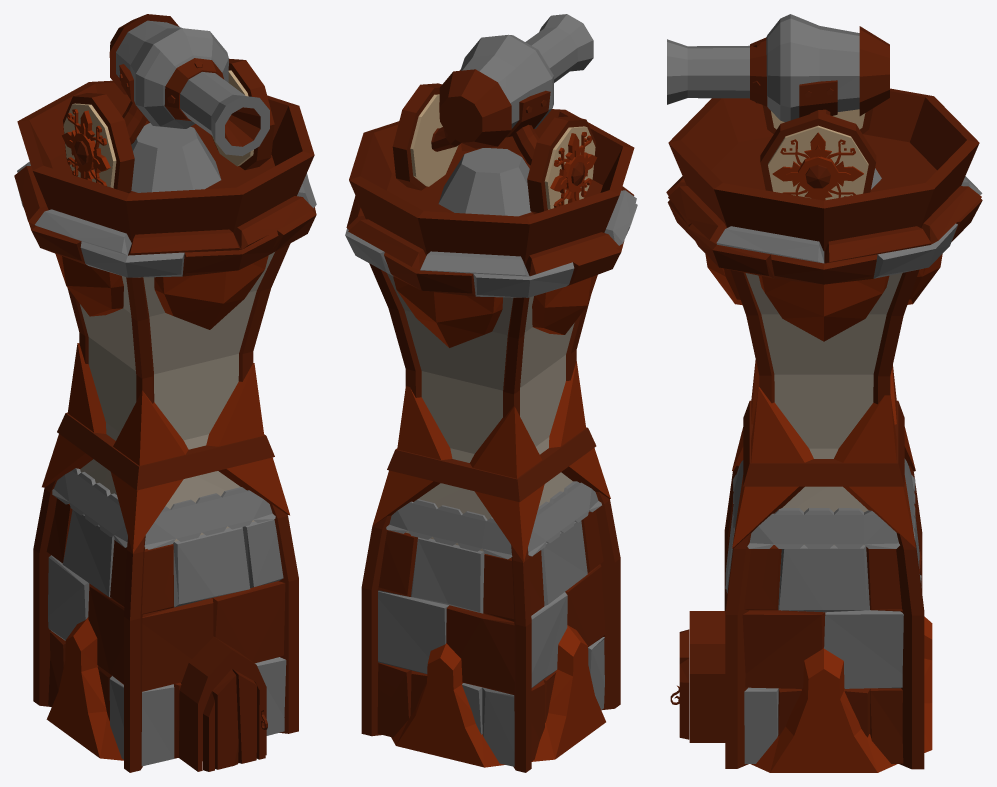
Rendered from red_side_turret.glb.
The picture shows the model from 3 angles, left to right: view 1: azimuth 30°, elevation 25°; view 2: azimuth 150°, elevation 25°; view 3: azimuth 270°, elevation 25°; orthographic projection. The views are drawn at different scales.
Visible parts, largest first — view 1: Cannon_tower_LVL_2; view 2: Cannon_tower_LVL_2; view 3: Cannon_tower_LVL_2.
Boxes of the visible parts, <box> form: Cannon_tower_LVL_2: <box>14,14,316,772</box>; Cannon_tower_LVL_2: <box>345,14,637,772</box>; Cannon_tower_LVL_2: <box>666,14,982,772</box>.
Size of the model in its own units: 6.04 by 14.88 by 6.03.
Materials: 1 (1 with a texture image).
